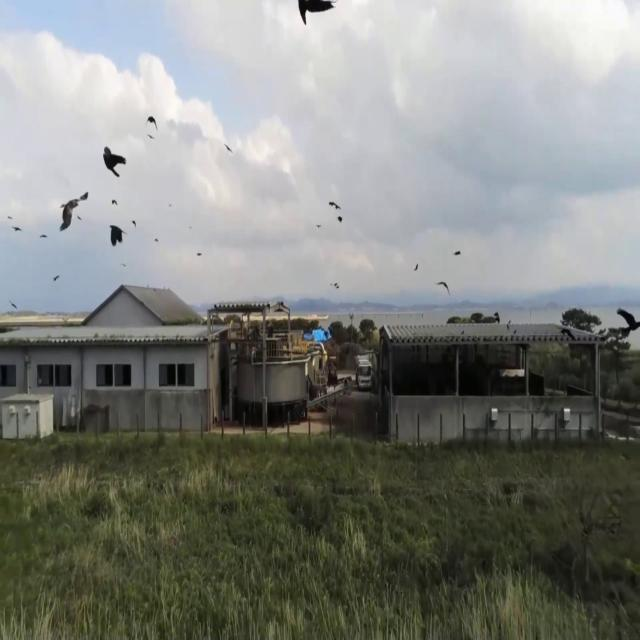bird: (59, 173, 90, 245), (101, 127, 127, 190), (299, 5, 331, 34), (108, 216, 125, 261), (327, 192, 342, 226), (436, 271, 450, 302), (146, 105, 158, 141), (297, 3, 309, 34), (10, 215, 22, 239), (224, 135, 232, 159), (453, 242, 461, 264)
